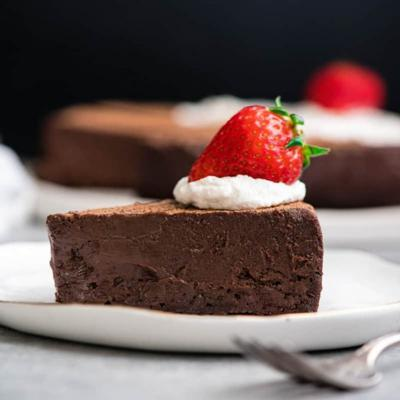cake: (40, 180, 331, 329)
